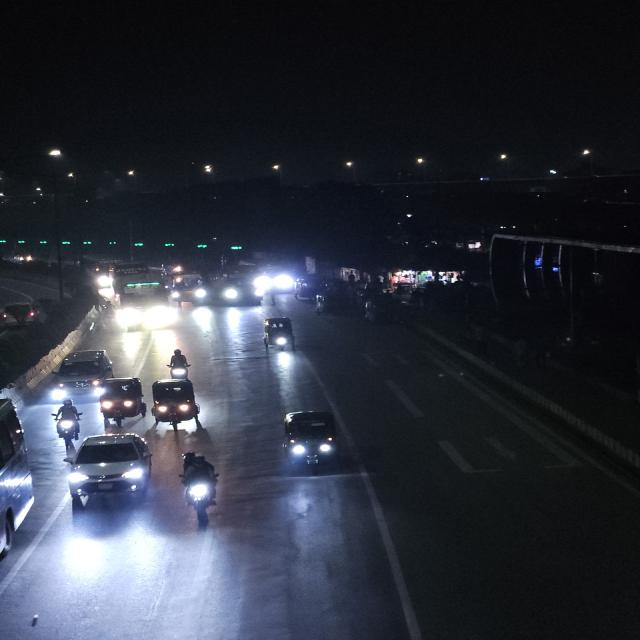bus: (170, 257, 266, 307), (110, 265, 173, 332), (170, 270, 209, 306)
car: (64, 431, 156, 511), (48, 348, 115, 404)
cng: (278, 407, 344, 475), (149, 378, 206, 434), (97, 374, 147, 428), (259, 315, 298, 355), (311, 291, 348, 314)
motorcycle: (175, 448, 224, 530), (49, 398, 84, 446), (164, 345, 194, 381)
